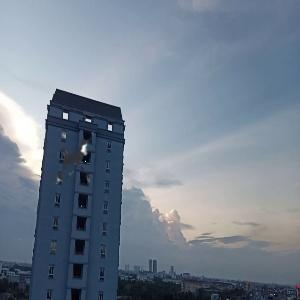drone: (29, 110, 129, 210)
